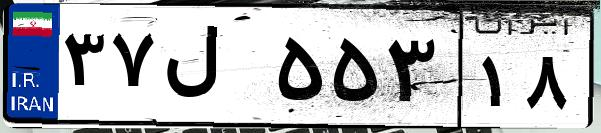1: (475, 38, 525, 113)
3: (385, 28, 445, 110), (57, 26, 110, 100)
5: (270, 28, 330, 110), (330, 28, 385, 110)
7: (110, 28, 158, 98)
8: (525, 38, 570, 115)
ل: (158, 20, 270, 120)
